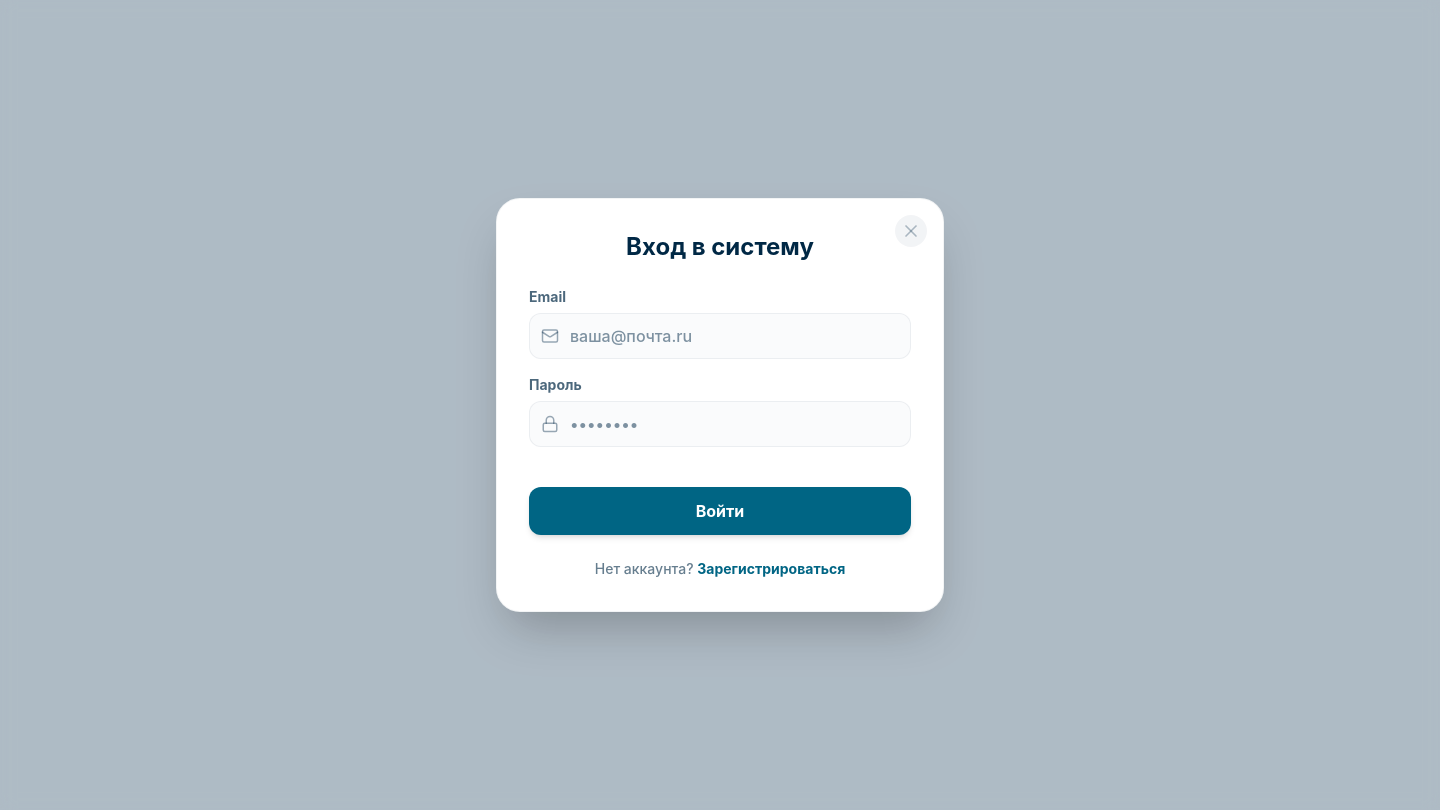
AuthModal Stress Tests › EDGE CASE 3: Switching to register and back retains states properly but prevents invalid submits
Step 1. Type "test@test.com" into the field with placeholder "ваша@почта.ru" → (720,336), box 529,313 -> 911,359
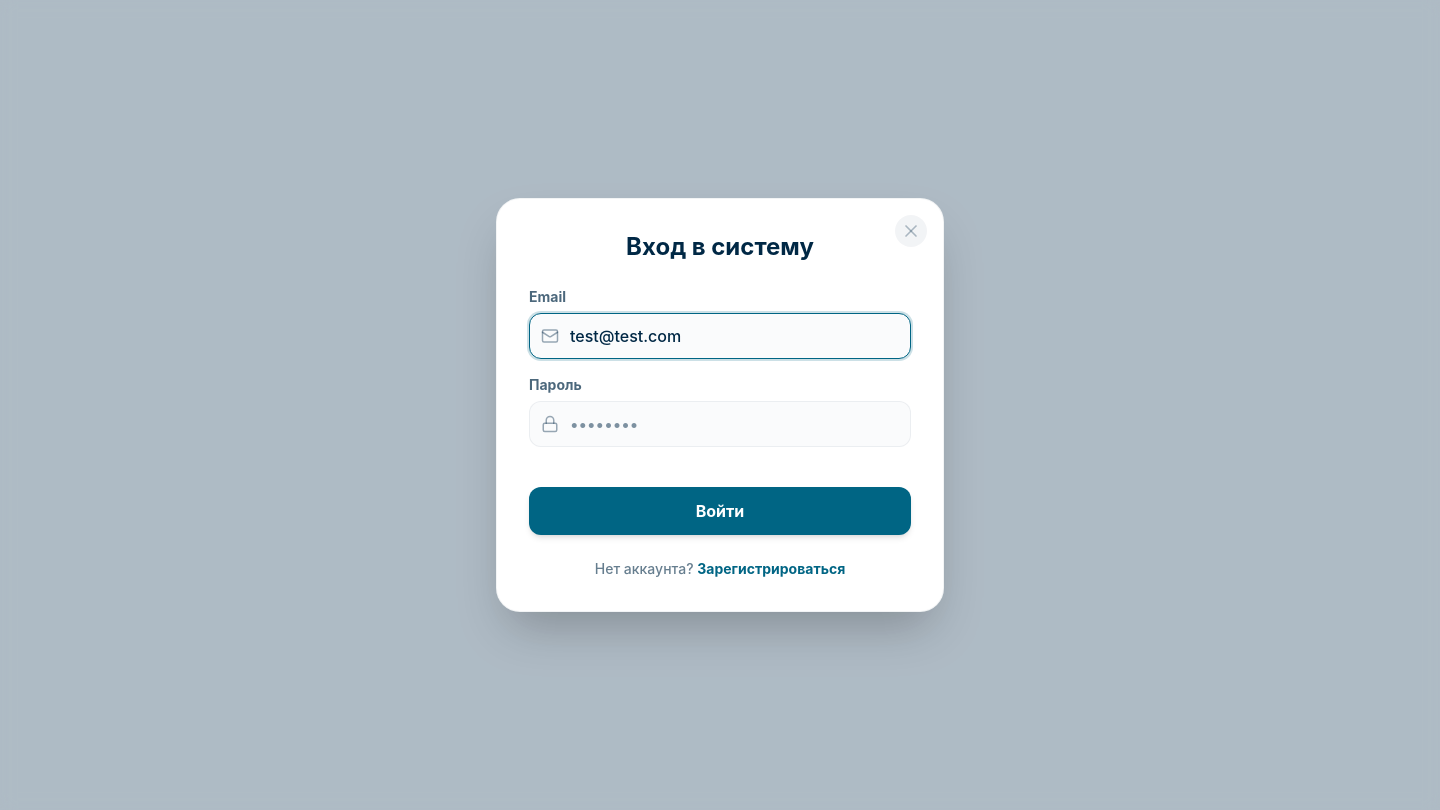
Step 2. Type "123" into the password field with placeholder "••••••••" → (720,424), box 529,401 -> 911,447
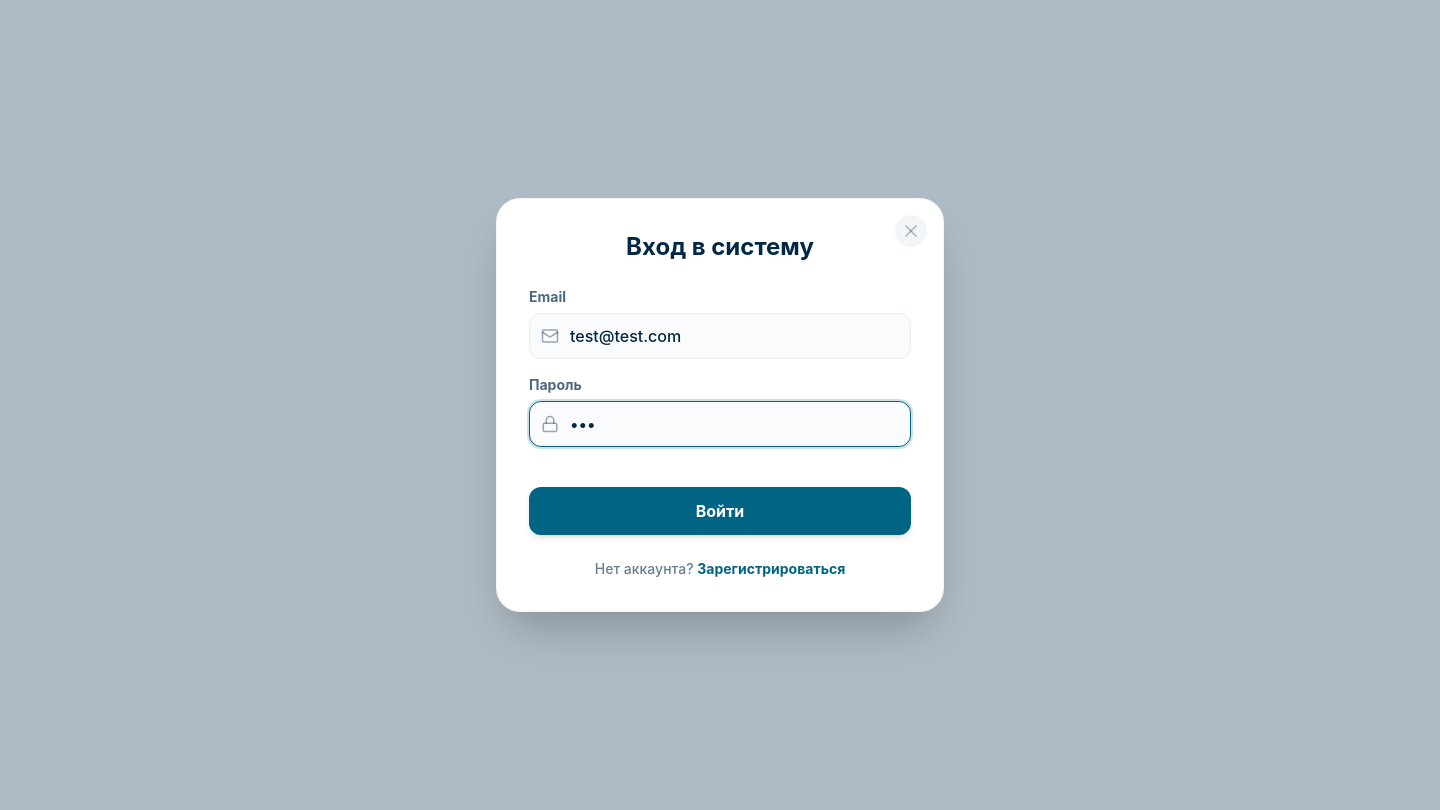
Switch to register
Step 3. Click the button "Зарегистрироваться" → (771,569), box 697,559 -> 845,579
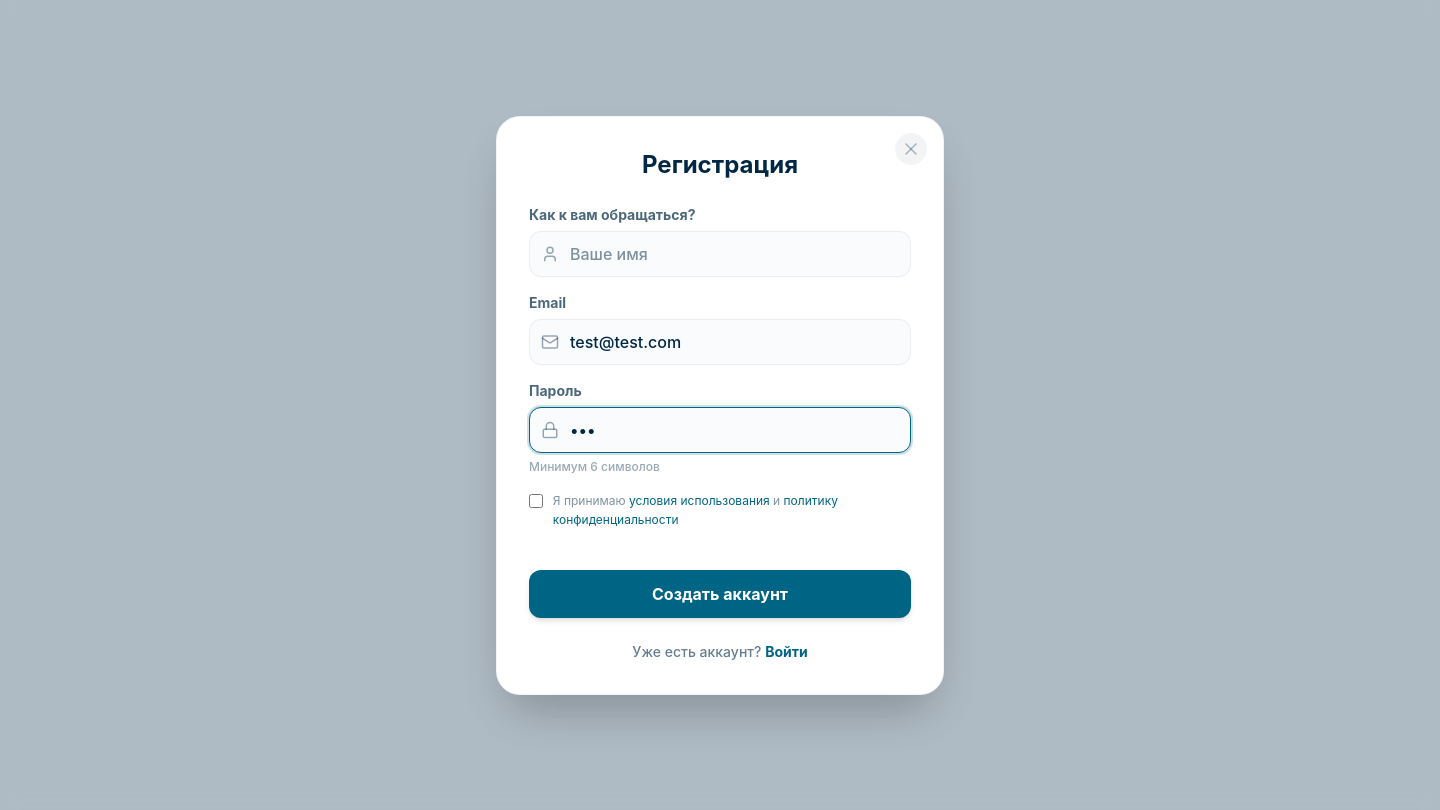
Fill name so HTML5 required doesn't block form submission
Step 4. Type "Тест" into the field with placeholder "Ваше имя" → (720,254), box 529,230 -> 911,276
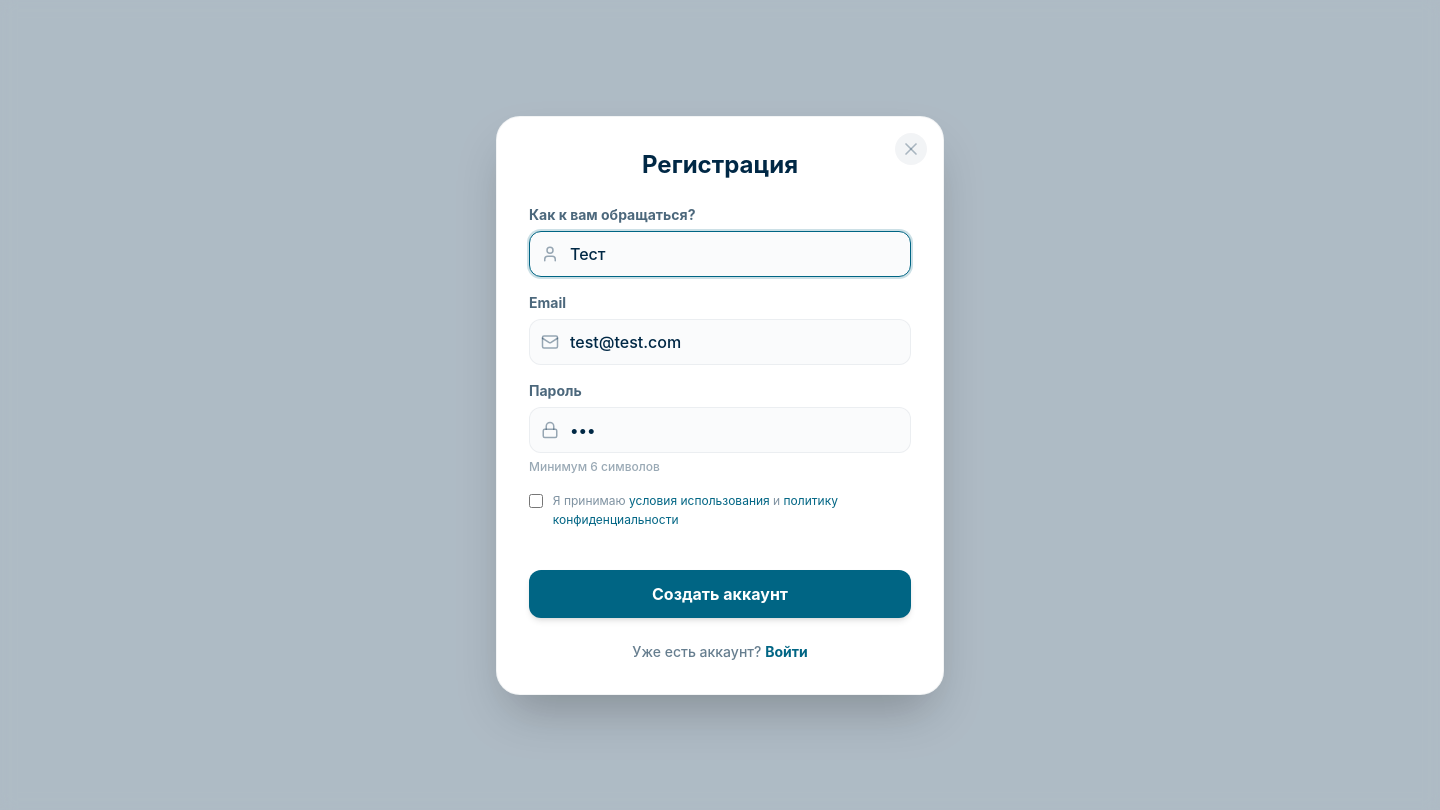
Trying to submit with short password should show error without hitting API
Step 5. Click the button "Создать аккаунт" → (720,594), box 529,570 -> 911,618
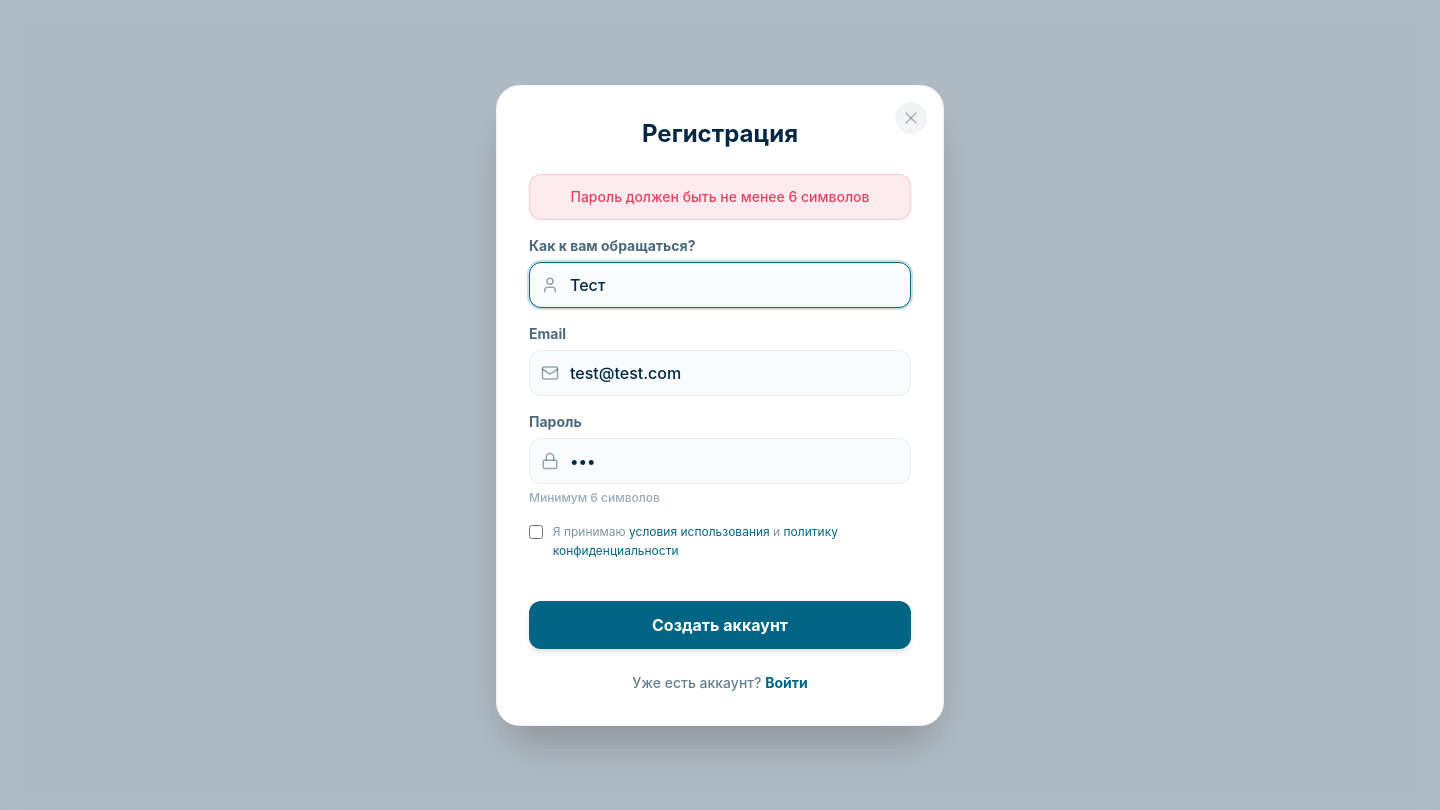
Check: the text "Пароль должен быть не менее 6 символов" is shown, box 529,174 -> 911,220
